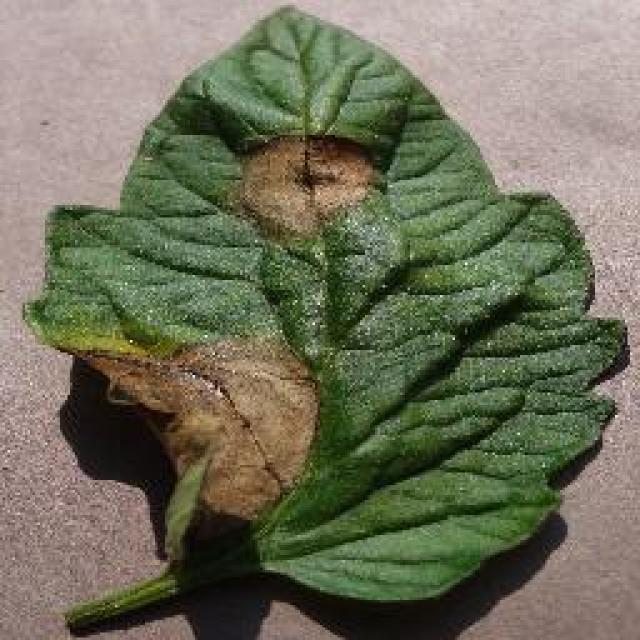Tomato Late Blight: (128, 110, 377, 505)
